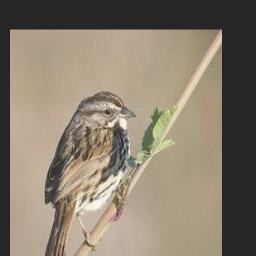Sparrow: (41, 88, 138, 256)
